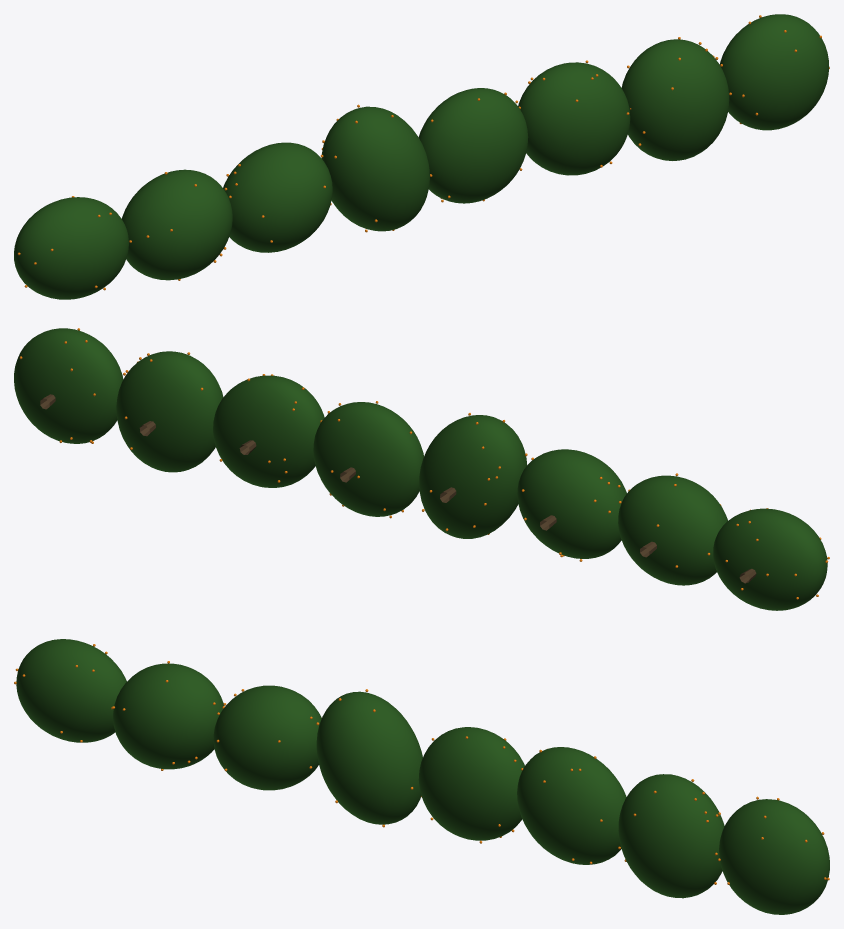
File: citrus_plain8_a_fruit.obj
3 views of the same model, one above another, from view 1: azimuth 30°, elevation 25°; view 2: azimuth 150°, elevation 25°; view 3: azimuth 330°, elevation 25° (orthographic).
Parts seen in each view (by area): view 1: canopy, fruit; view 2: canopy, trunk, fruit; view 3: canopy, fruit.
Boxes of the visible parts, x1,y1,x2,y2 form: canopy: (14,14,829,299); fruit: (17,15,829,290); canopy: (14,328,827,610); trunk: (40,394,756,583); fruit: (19,328,829,599); canopy: (16,639,829,914); fruit: (14,644,829,884).
Size of the model in its own units: 24.29 by 3.63 by 2.84.
